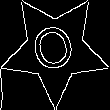O_S: (28, 18, 82, 80)
